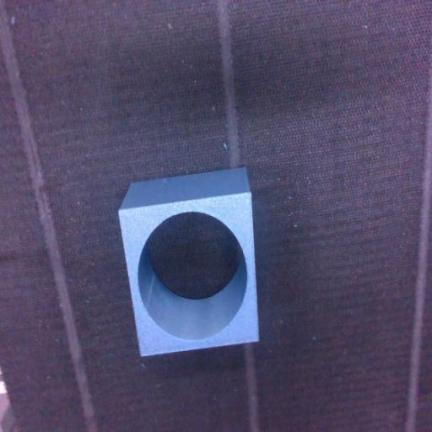hole: (119, 168, 259, 356)
